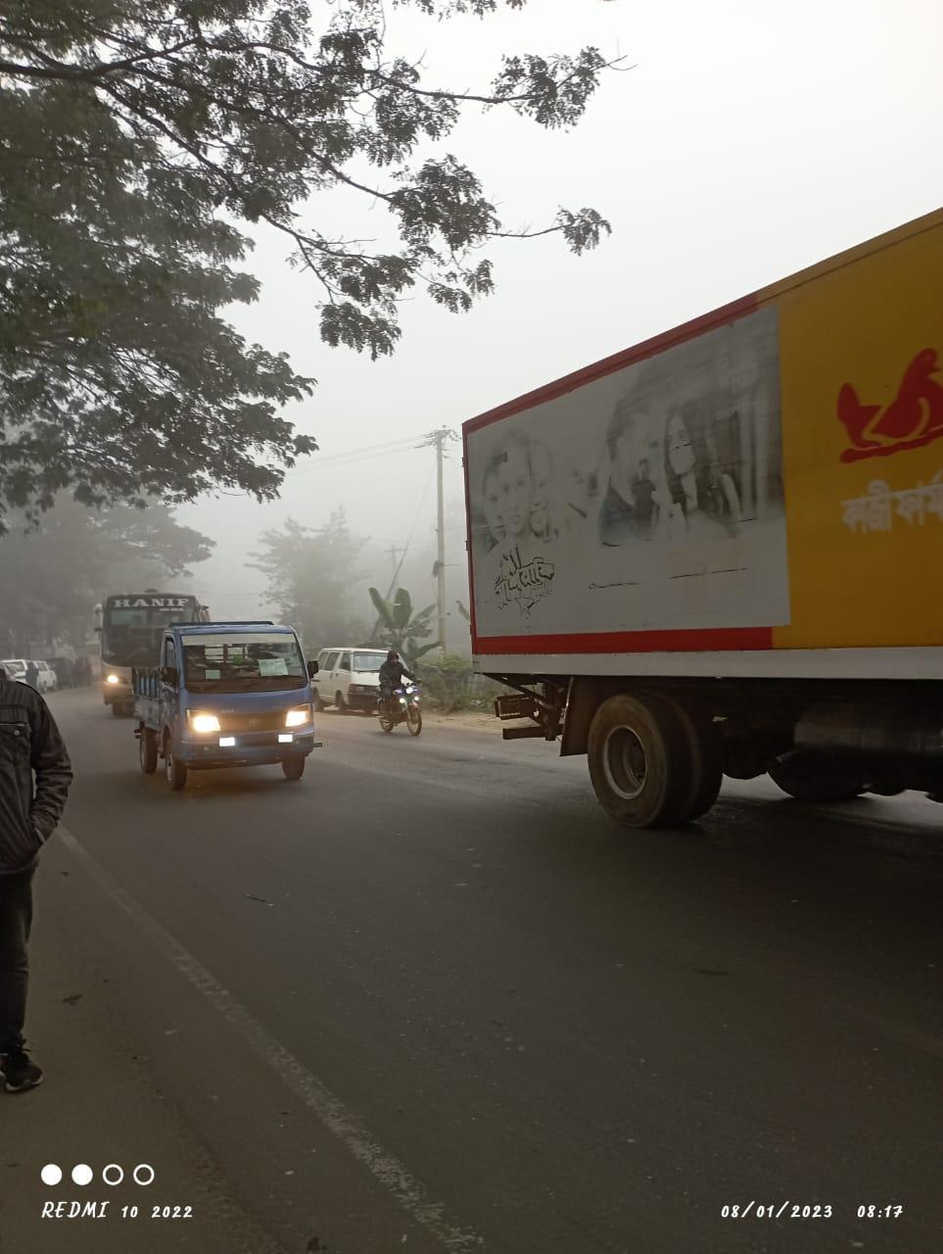Bike: (370, 650, 424, 738)
Bus: (92, 585, 202, 698)
Car: (131, 614, 322, 788), (313, 636, 382, 717)
Truck: (445, 197, 943, 842)
